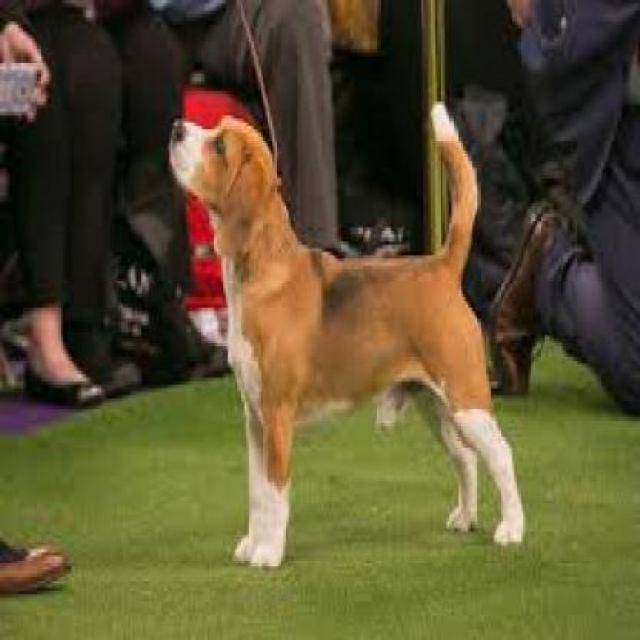Dog: (168, 101, 532, 577)
